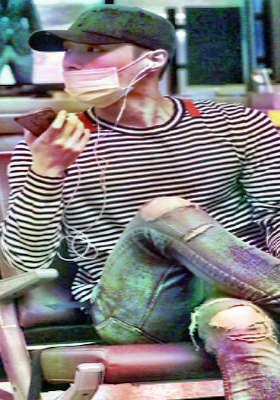mask_weared_incorrect: (61, 43, 150, 108)
